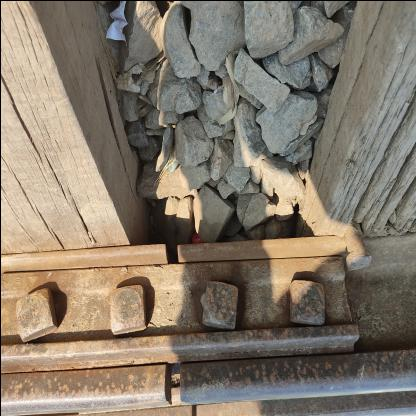Non Defective 3: (0, 223, 374, 371)
